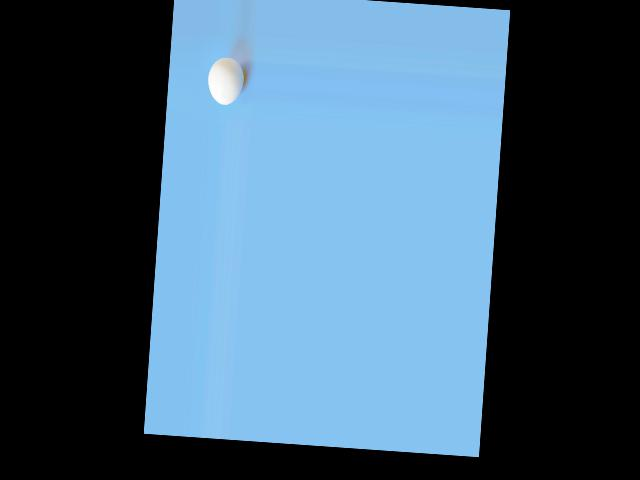egg: (206, 55, 245, 106)
